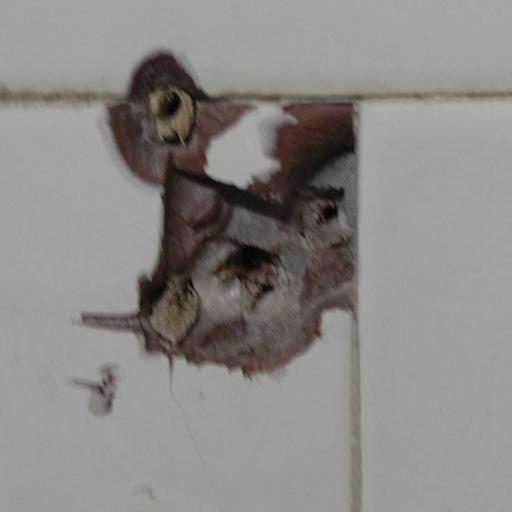spalling: (73, 31, 382, 431)
